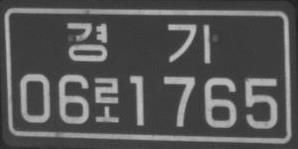0: (19, 72, 51, 123)
1: (125, 74, 153, 126)
5: (244, 76, 279, 130)
6: (202, 76, 237, 129), (57, 73, 90, 124)
7: (162, 75, 195, 127)
경기_D: (64, 21, 211, 64)
로: (93, 76, 120, 124)
